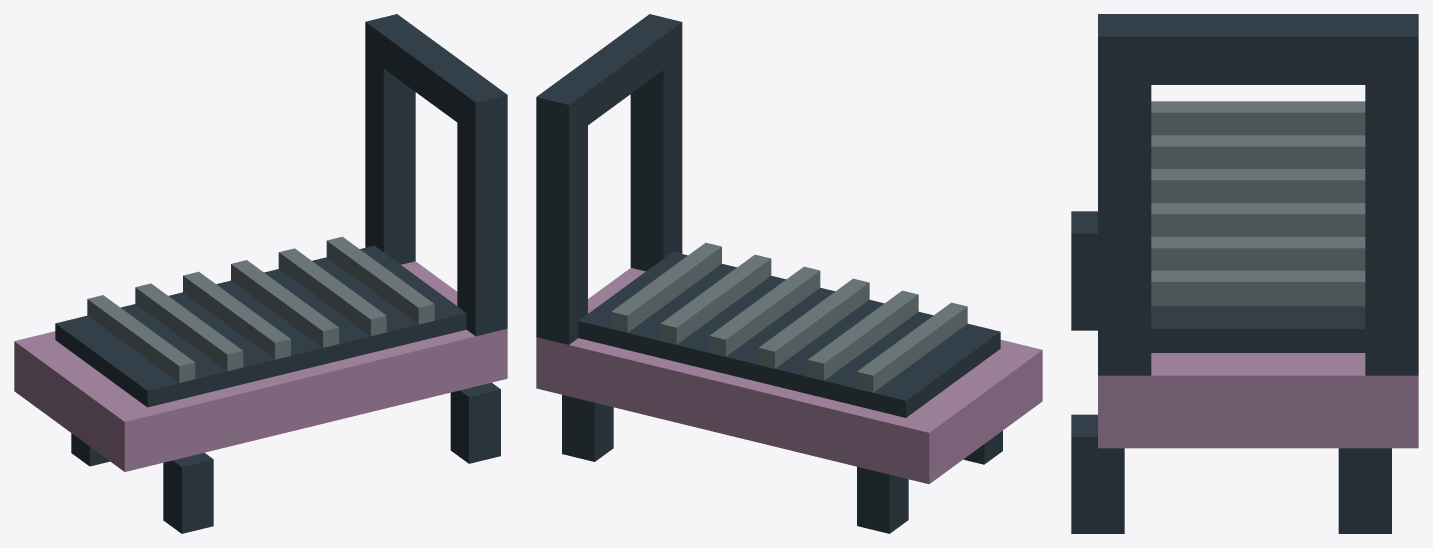
The model's file is events-19.glb.
3 views of the same model, side by side, from view 1: azimuth 30°, elevation 25°; view 2: azimuth 150°, elevation 25°; view 3: azimuth 270°, elevation 25° (orthographic). The views are drawn at different scales.
Parts seen in each view (by area): view 1: Catering cart; view 2: Catering cart; view 3: Catering cart.
Boxes of the visible parts, x1,y1,x2,y2 form: Catering cart: (14,14,507,533); Catering cart: (536,14,1042,533); Catering cart: (1071,14,1418,533).
Bounding box in the file's own units: 1.92 × 1.68 × 1.04.
